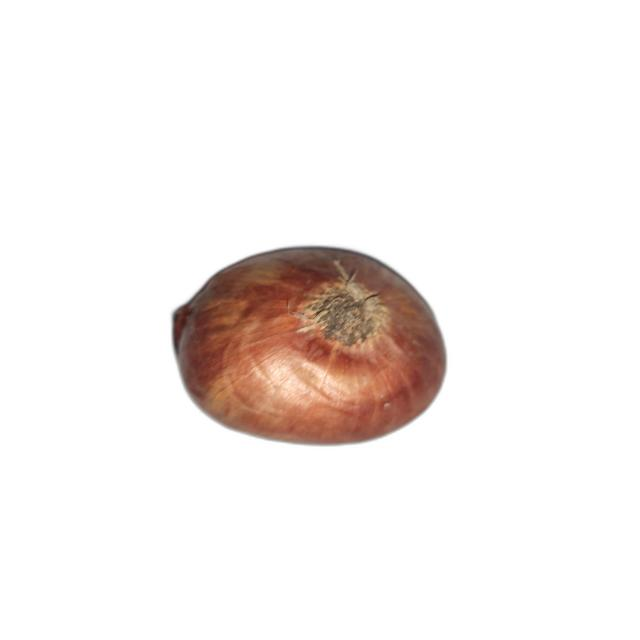onion: (172, 245, 448, 447)
